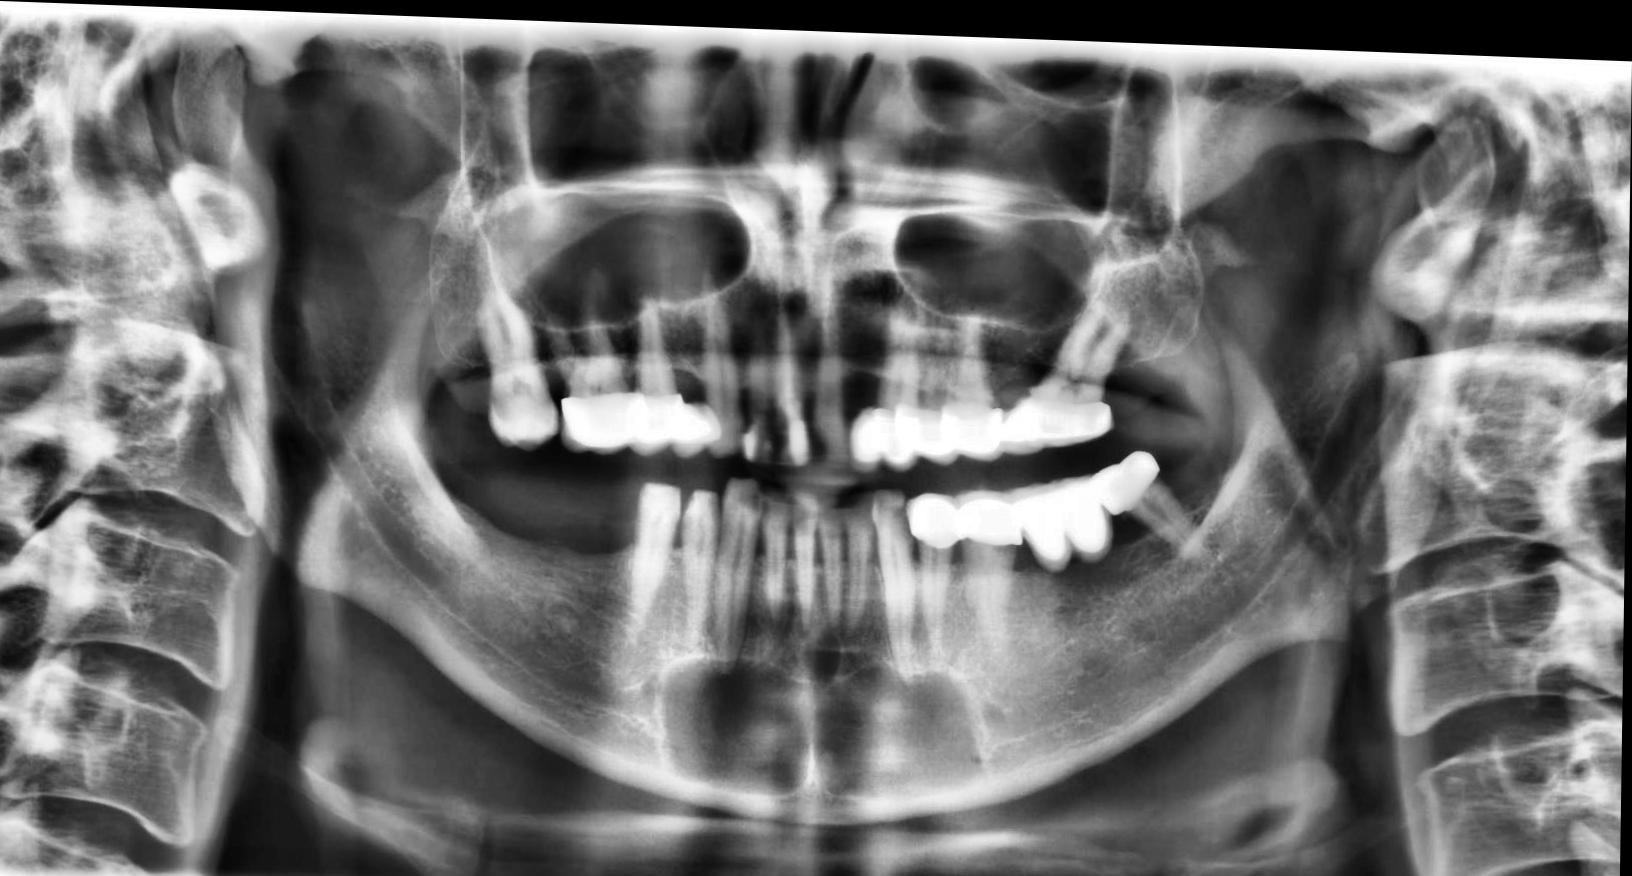radikuler: (662, 618, 1008, 796)
